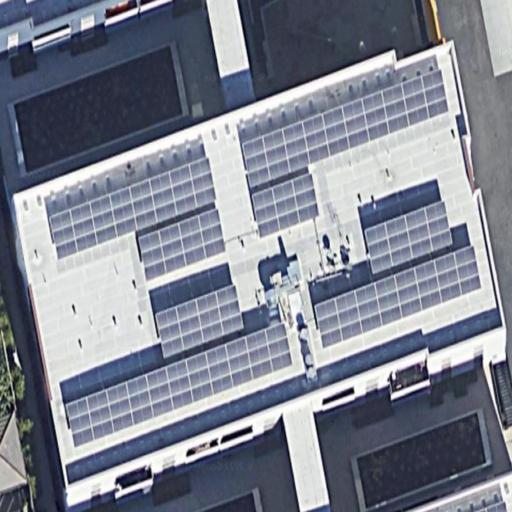Slope-Flat-Roof: (14, 40, 505, 504)
